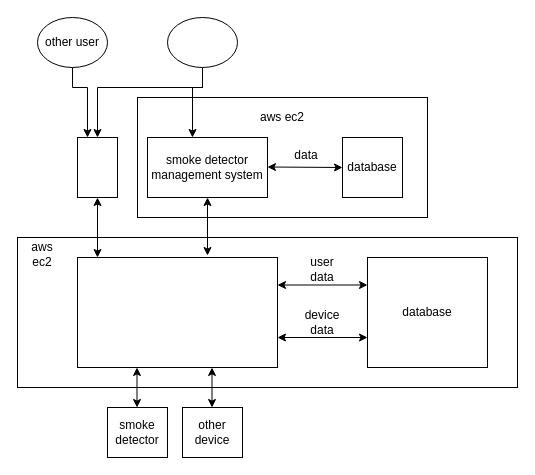
This 535x475 diagram has some shape labels left out. Here are the shapes that lost their labels. From the top down, the box of each, then its label:
(166, 16, 238, 68): user
(76, 136, 118, 198): APP
(76, 256, 278, 368): Ringa Platform
